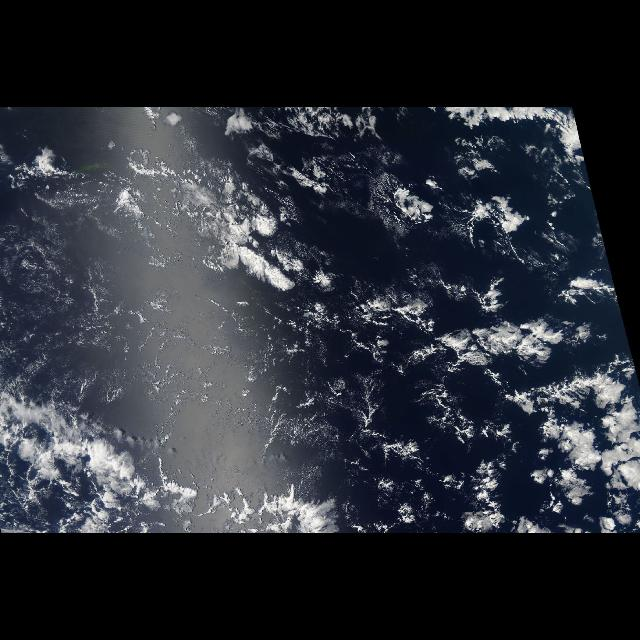Flower: (352, 148, 640, 530)
Sugar: (1, 238, 220, 416)
